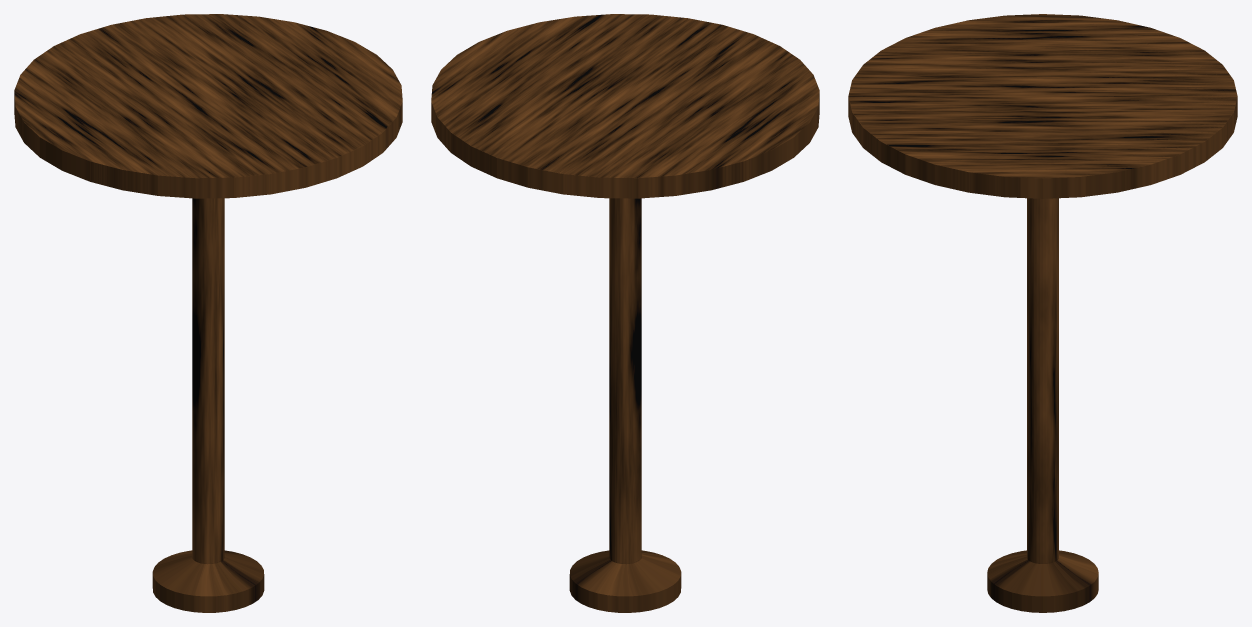
The model's file is table.fbx.
3 views of the same model, side by side, from view 1: azimuth 30°, elevation 25°; view 2: azimuth 150°, elevation 25°; view 3: azimuth 270°, elevation 25° (orthographic).
Visible parts, largest first — view 1: Cylinder; view 2: Cylinder; view 3: Cylinder.
Boxes of the visible parts, box(x1,y1,x2,y2) form: Cylinder: box(14, 14, 402, 612); Cylinder: box(431, 14, 819, 612); Cylinder: box(848, 14, 1237, 612).
Size of the model in its own units: 286 by 400 by 286.
Materials: 1 (1 with a texture image).
